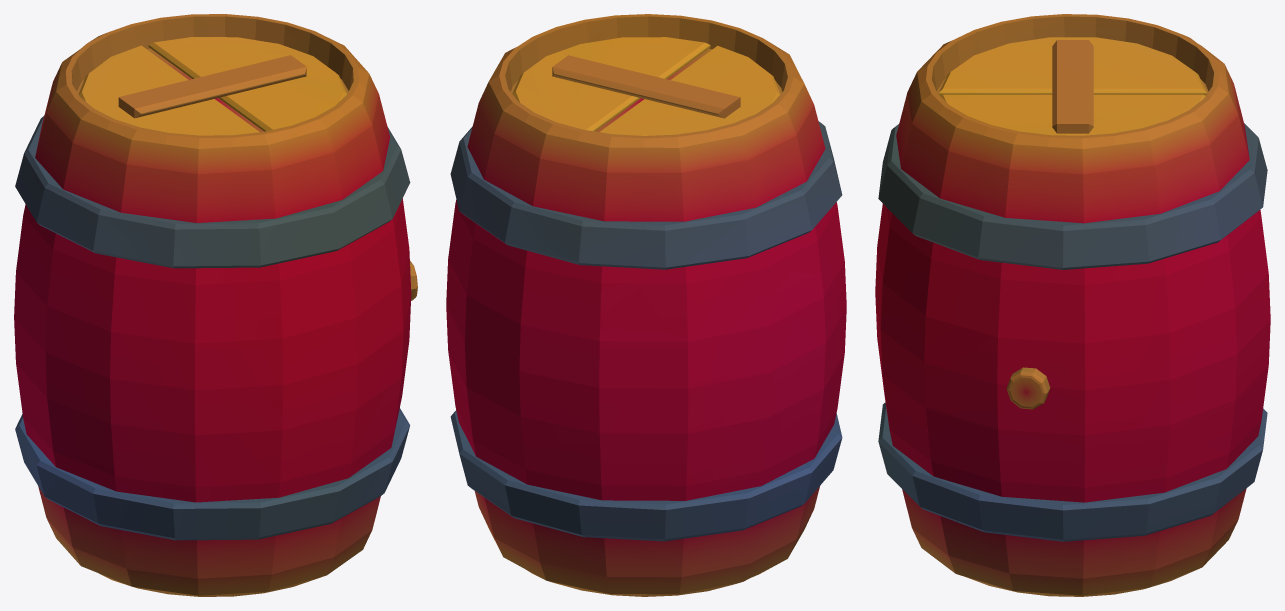
File: Prop_Barrel.glb
3 views of the same model, side by side, from view 1: azimuth 30°, elevation 25°; view 2: azimuth 150°, elevation 25°; view 3: azimuth 270°, elevation 25° (orthographic).
Parts seen in each view (by area): view 1: Prop_Barrel; view 2: Prop_Barrel; view 3: Prop_Barrel.
Part boxes in pixels (x1,y1,x2,y2): Prop_Barrel: (14, 14, 417, 596); Prop_Barrel: (446, 14, 846, 596); Prop_Barrel: (875, 14, 1270, 596).
Size of the model in its own units: 0.6922 by 0.86 by 0.6709.
